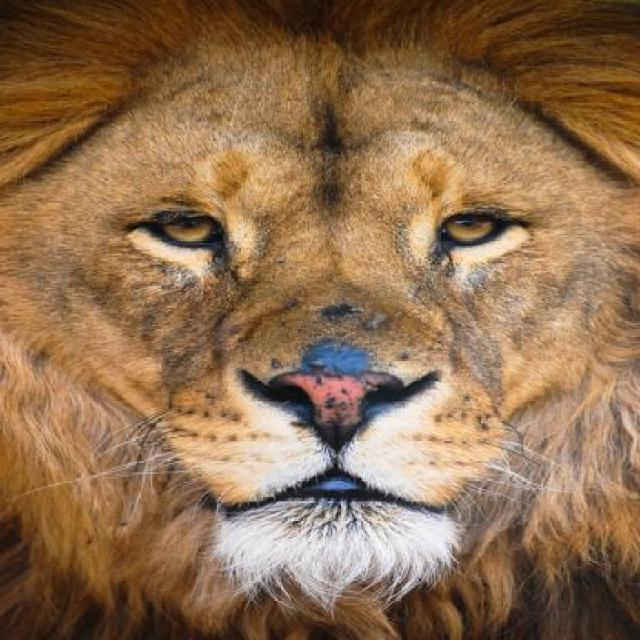Lion: (2, 16, 629, 638)
